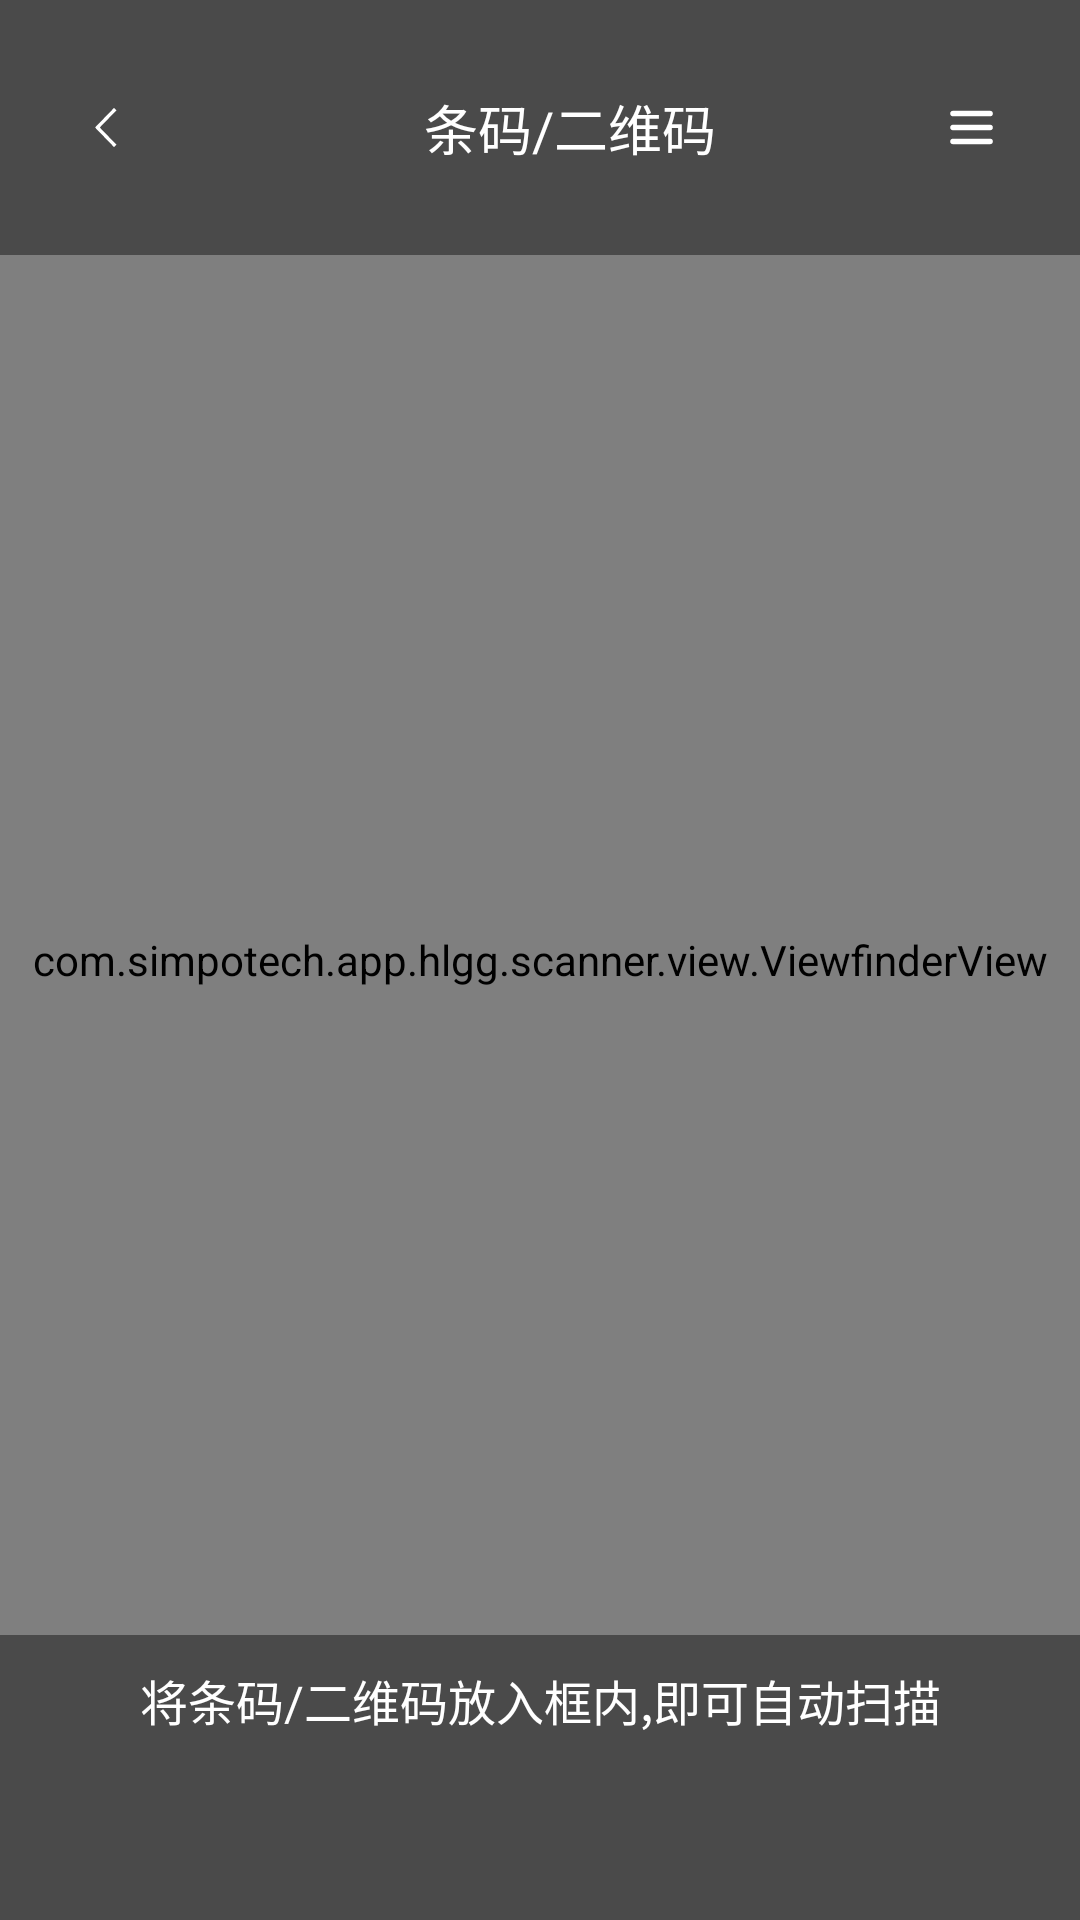

Icon bounding boxes for this 1080*1920 phone screenshot, format box=[x1, y1, x2, y2]:
sanner back: box=[95, 108, 117, 147]
sanner more: box=[950, 110, 993, 145]
